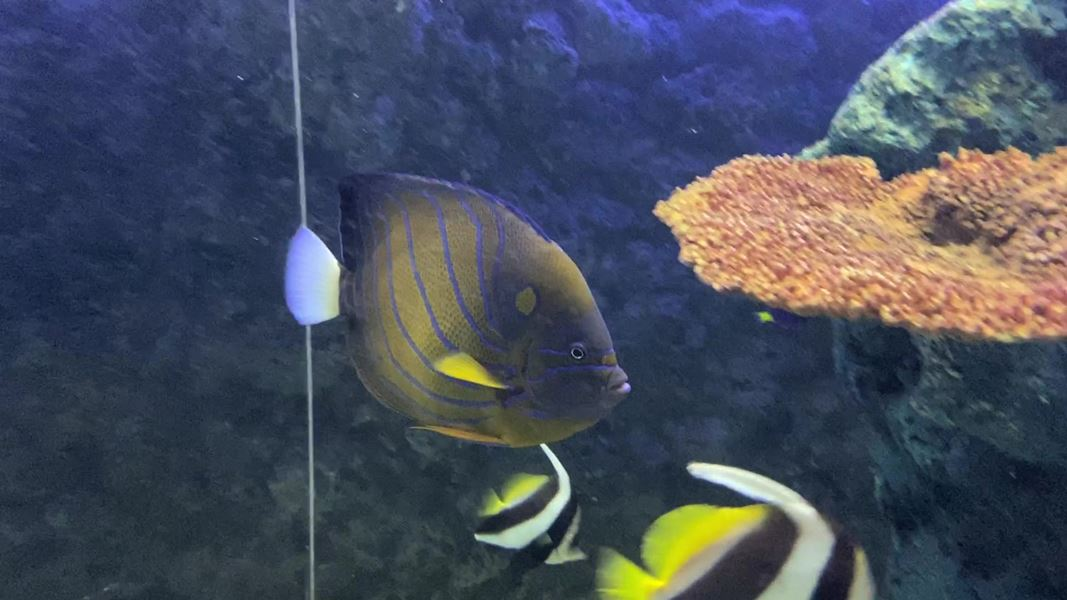Blue ring angelfish: (276, 169, 645, 464)
